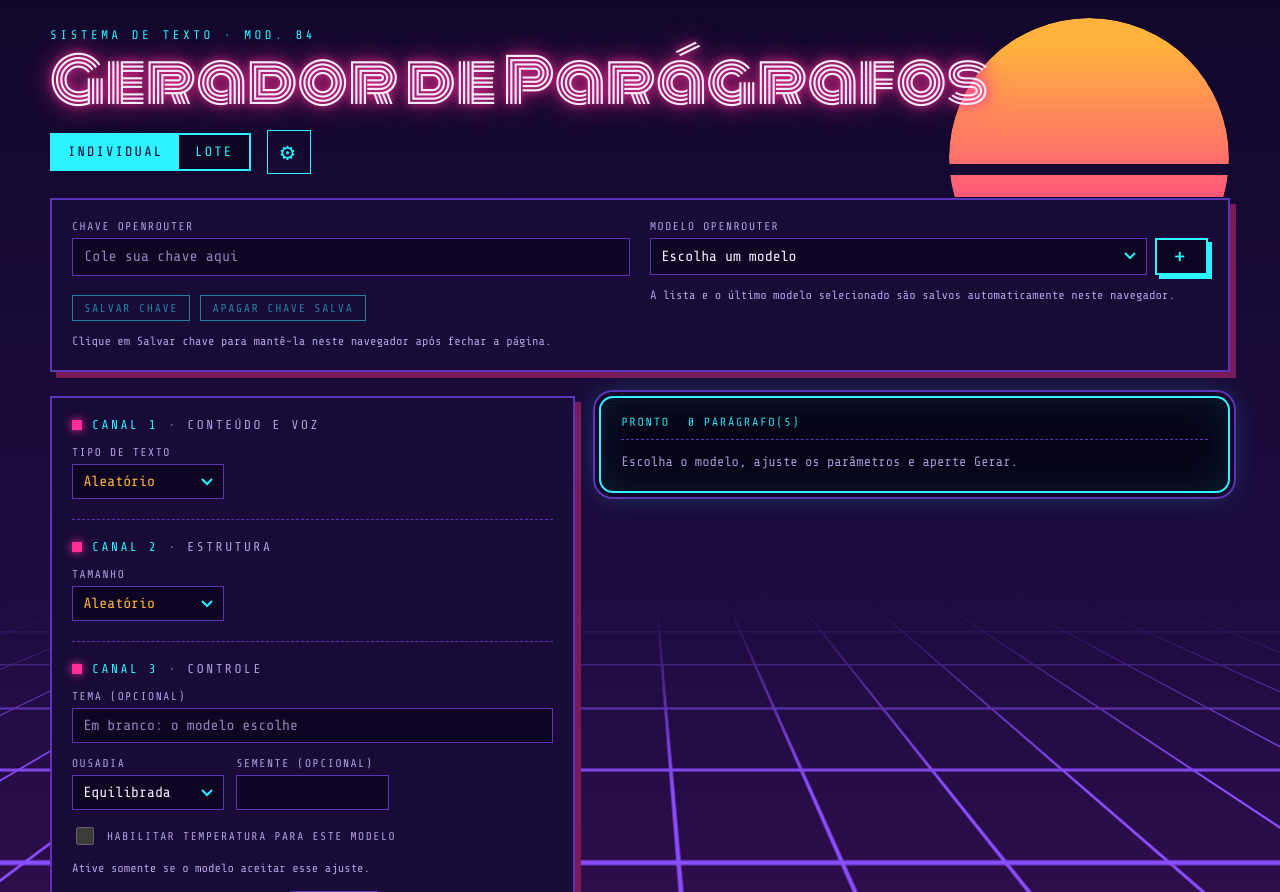
Test case: Interface real › restores shared speech settings beneath a paragraph from history
Click the button named "Abrir menu". click: [289, 152]
box: [267, 130, 311, 174]
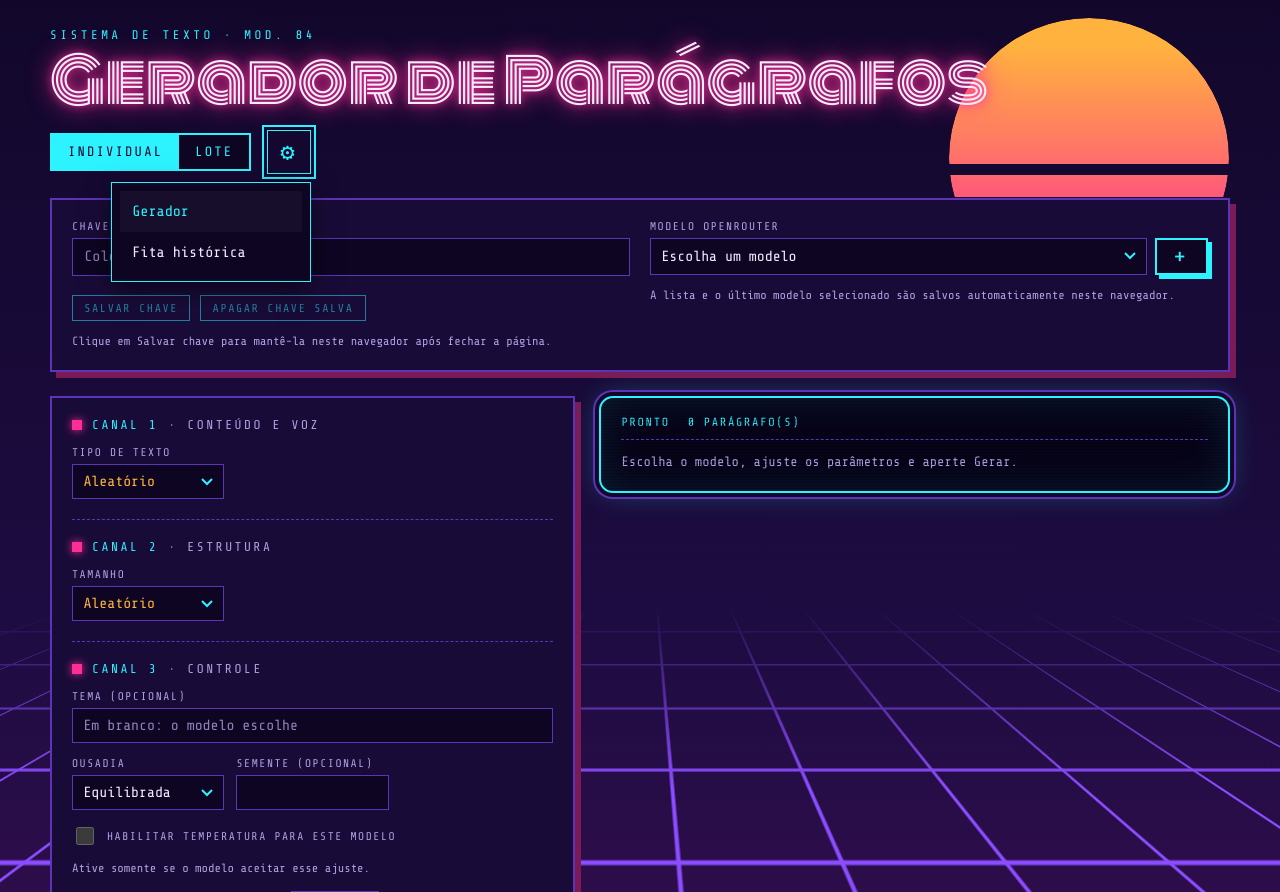
Click the link "Fita histórica". click: [189, 252]
box: [132, 244, 246, 261]
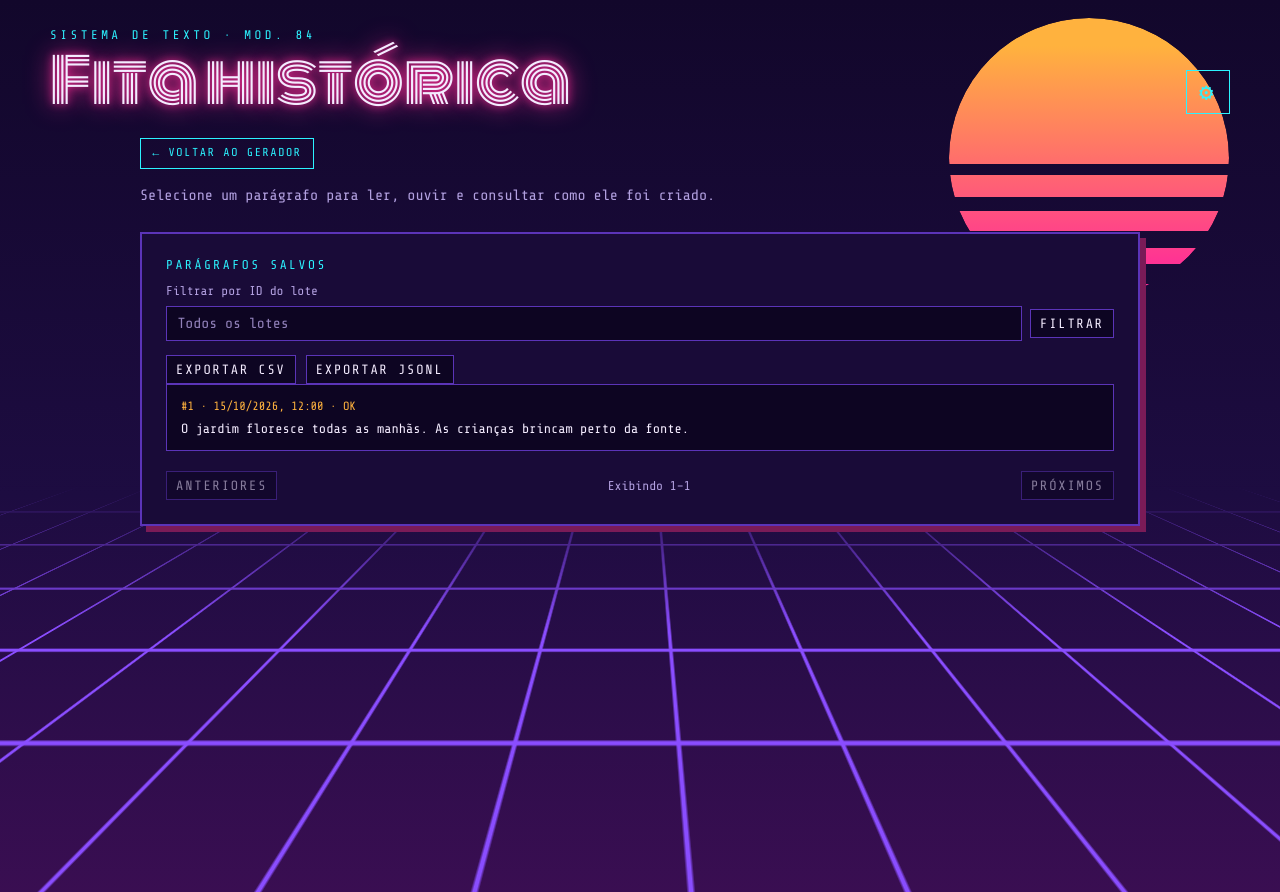
Click the button "O jardim floresce". click: [269, 406]
box: [166, 384, 1114, 451]
(page scrolled)
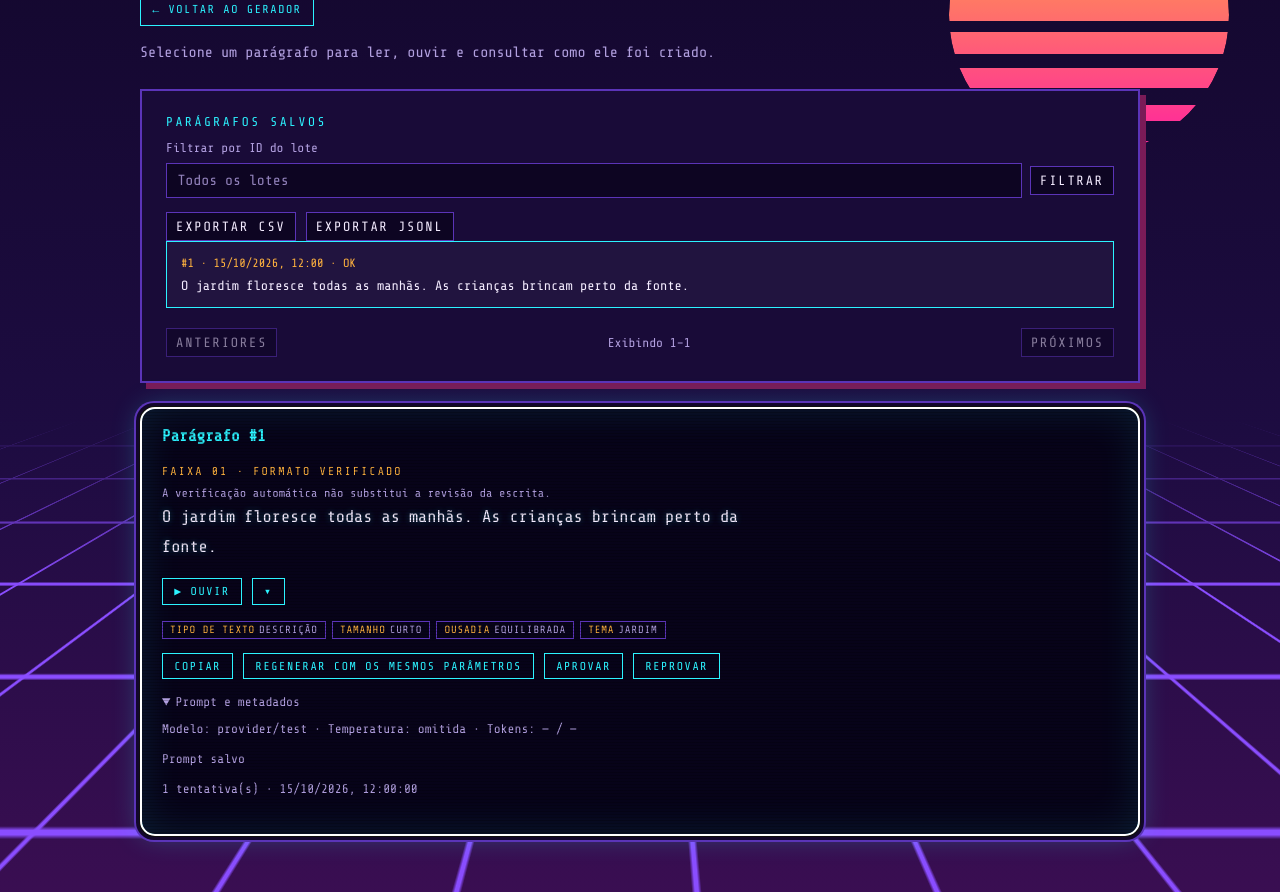
Click the button named "Configurar leitura". click: [268, 591]
box: [252, 578, 285, 605]
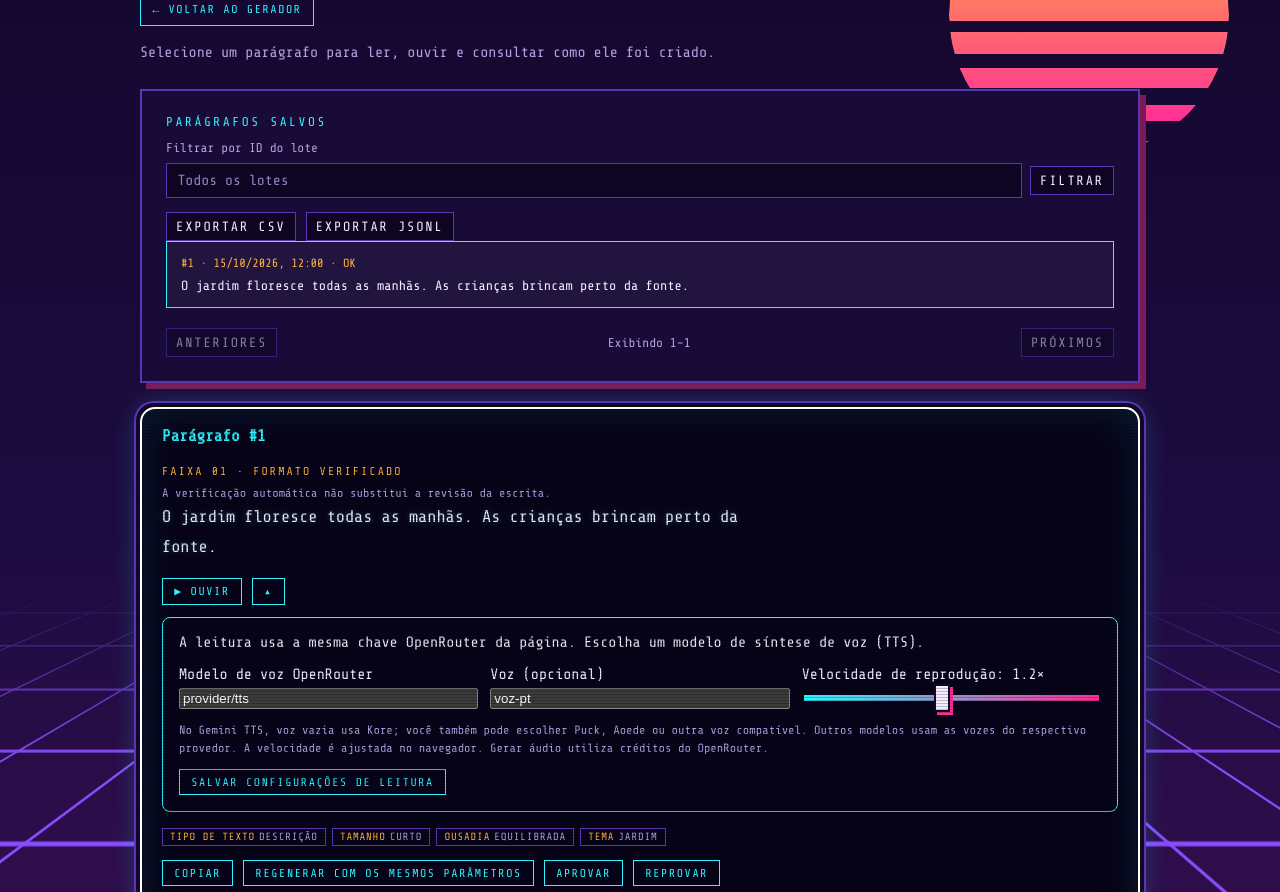
Now the button "▶ Ouvir" is shown, box [162, 578, 242, 605]
Now the field labelled "Modelo de voz OpenRouter" holds "provider/tts", box [179, 688, 478, 709]
Now the field labelled "Voz (opcional)" holds "voz-pt", box [490, 688, 790, 709]
